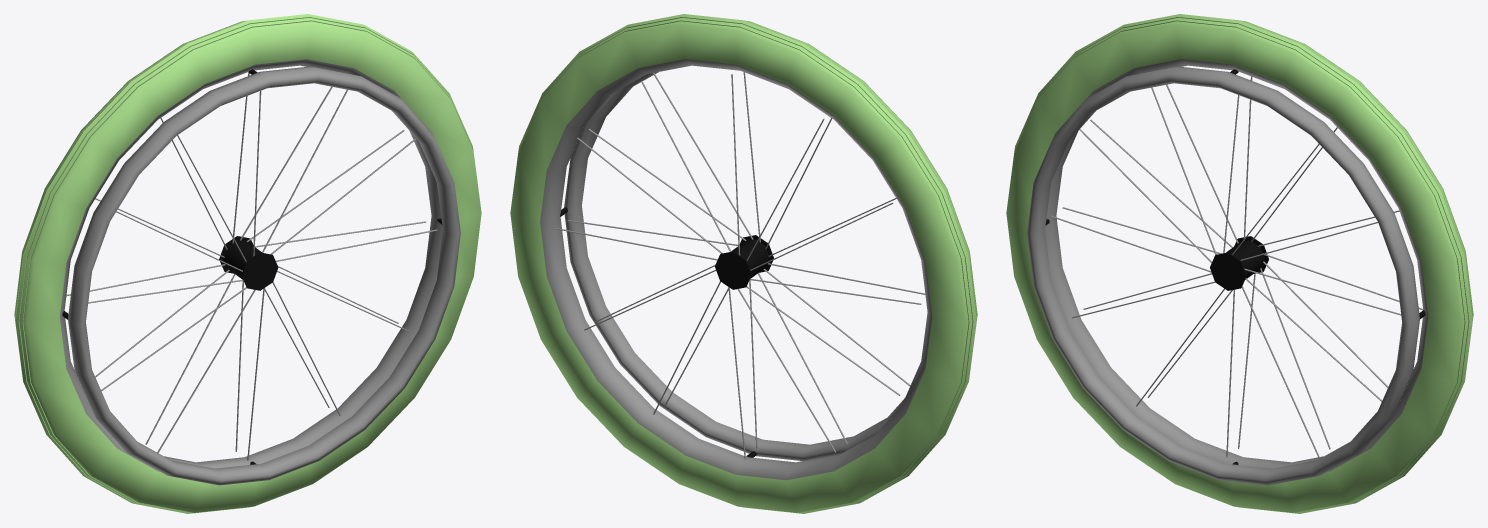
The model's file is Wheel.FBX.
3 views of the same model, side by side, from view 1: azimuth 30°, elevation 25°; view 2: azimuth 150°, elevation 25°; view 3: azimuth 330°, elevation 25° (orthographic).
Visible parts, largest first — view 1: Object; view 2: Object; view 3: Object.
Boxes of the visible parts, x1=… form: Object: x1=14, y1=14, x2=481, y2=513; Object: x1=510, y1=14, x2=977, y2=513; Object: x1=1006, y1=14, x2=1473, y2=513.
Bounding box in the file's own units: 80.21 × 9.98 × 80.21.
